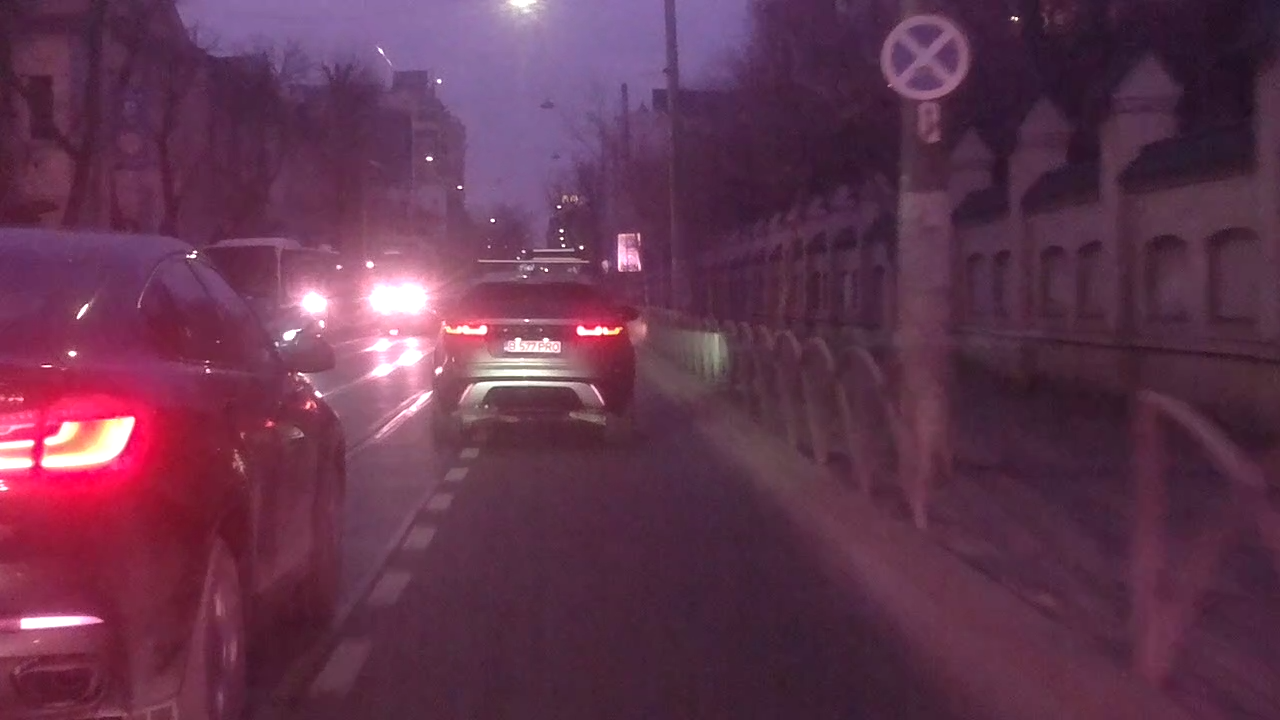license-plate: (500, 337, 563, 355)
